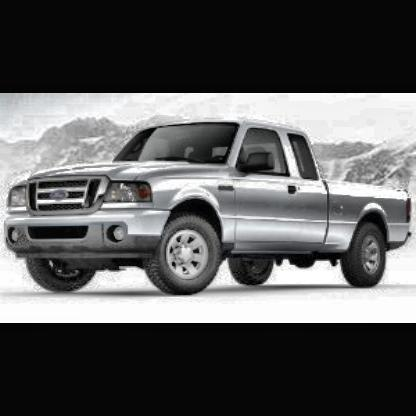Ford Ranger SuperCab 2011: (2, 118, 416, 296)
